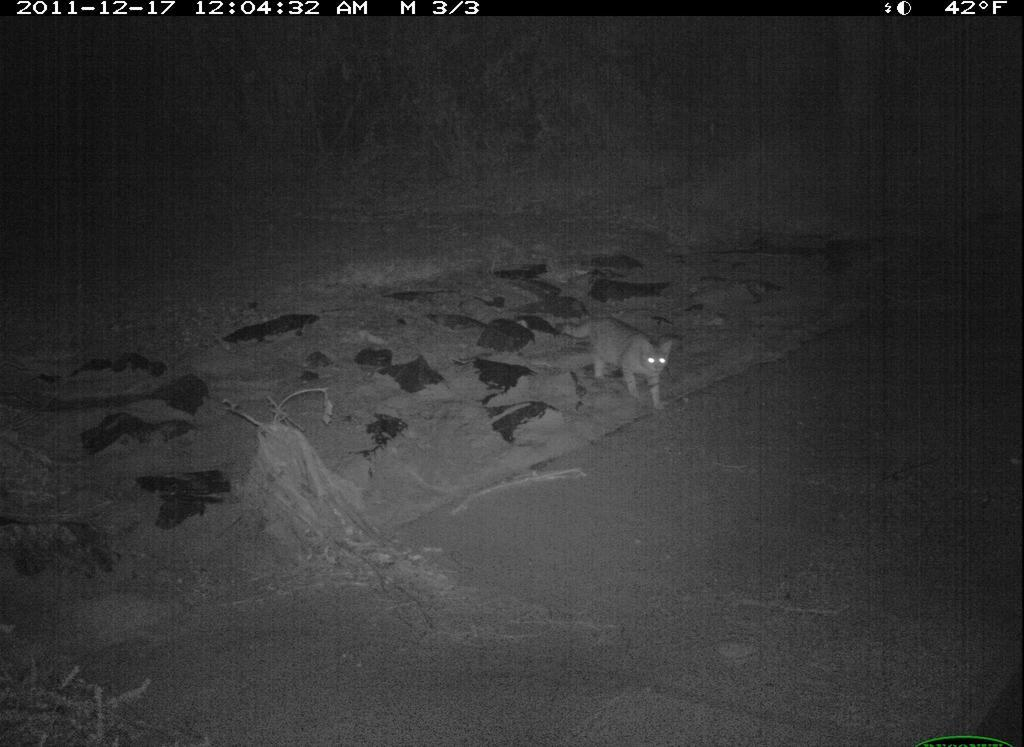cat: (555, 309, 684, 419)
